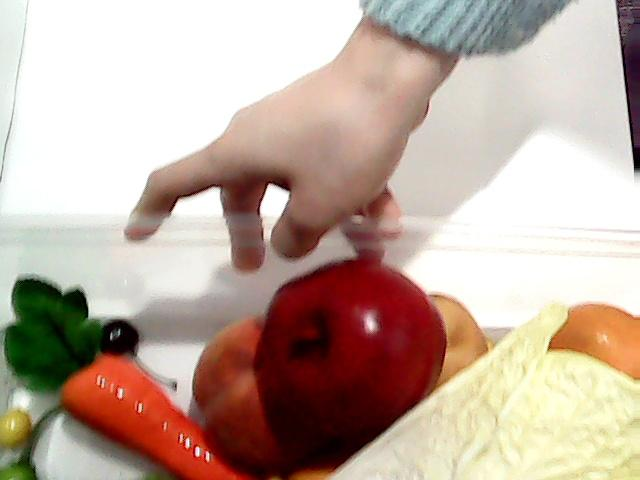apple: (255, 259, 450, 453)
carrot: (0, 271, 248, 480)
lemon: (540, 292, 640, 389)
napa cabbage: (236, 308, 640, 480)
peach: (190, 315, 314, 473)
potato: (405, 292, 487, 398)
